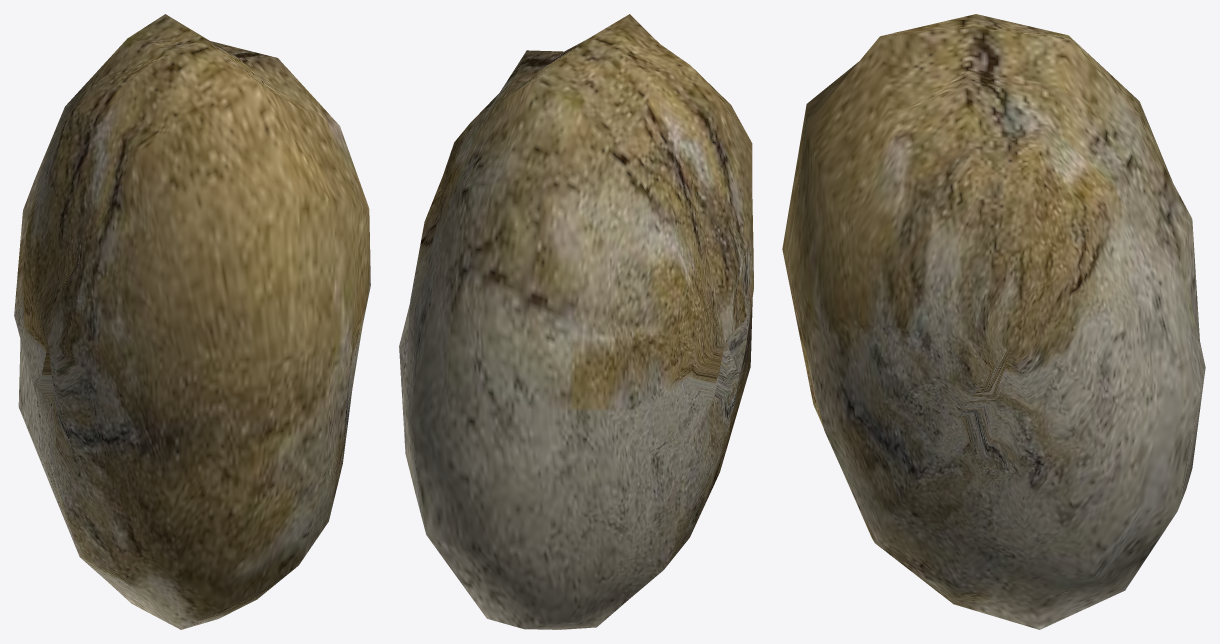
The model's file is rock-low-tex2.obj.
3 renders of one model, left to right at view 1: azimuth 30°, elevation 25°; view 2: azimuth 150°, elevation 25°; view 3: azimuth 270°, elevation 25°, orthographic. The views are drawn at different scales.
Visible parts, largest first — view 1: Vertex_Object; view 2: Vertex_Object; view 3: Vertex_Object.
Part boxes in pixels (left/top/right/bottom): Vertex_Object: left=14, top=14, right=370, bottom=629; Vertex_Object: left=399, top=14, right=753, bottom=629; Vertex_Object: left=782, top=14, right=1205, bottom=629.
Size of the model in its own units: 91.78 by 172 by 113.
1 material, 1 textured.
